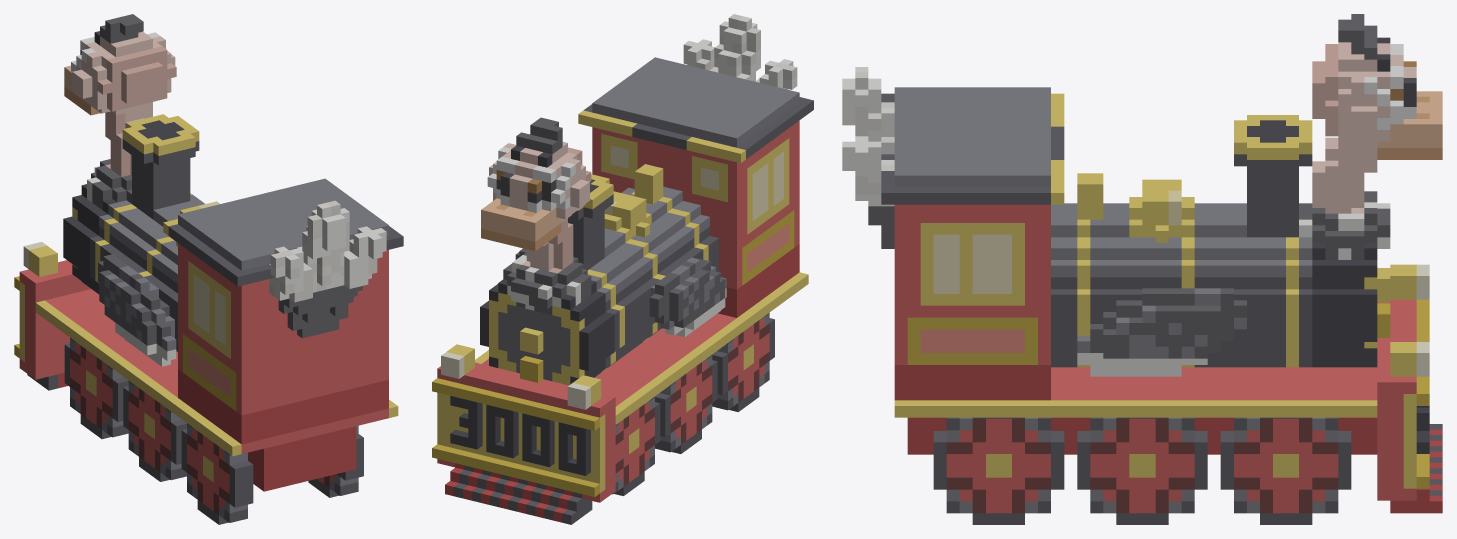
The model's file is TrenostruzzoTurbo3000.glb.
The picture shows the model from 3 angles, left to right: view 1: azimuth 30°, elevation 25°; view 2: azimuth 150°, elevation 25°; view 3: azimuth 270°, elevation 25°; orthographic projection. The views are drawn at different scales.
Visible parts, largest first — view 1: geometry_0; view 2: geometry_0; view 3: geometry_0.
Part boxes in pixels (left/top/right/bottom): geometry_0: left=14, top=14, right=403, bottom=524; geometry_0: left=432, top=14, right=813, bottom=524; geometry_0: left=842, top=14, right=1442, bottom=524.
Size of the model in its own units: 0.4615 by 1 by 1.18.
